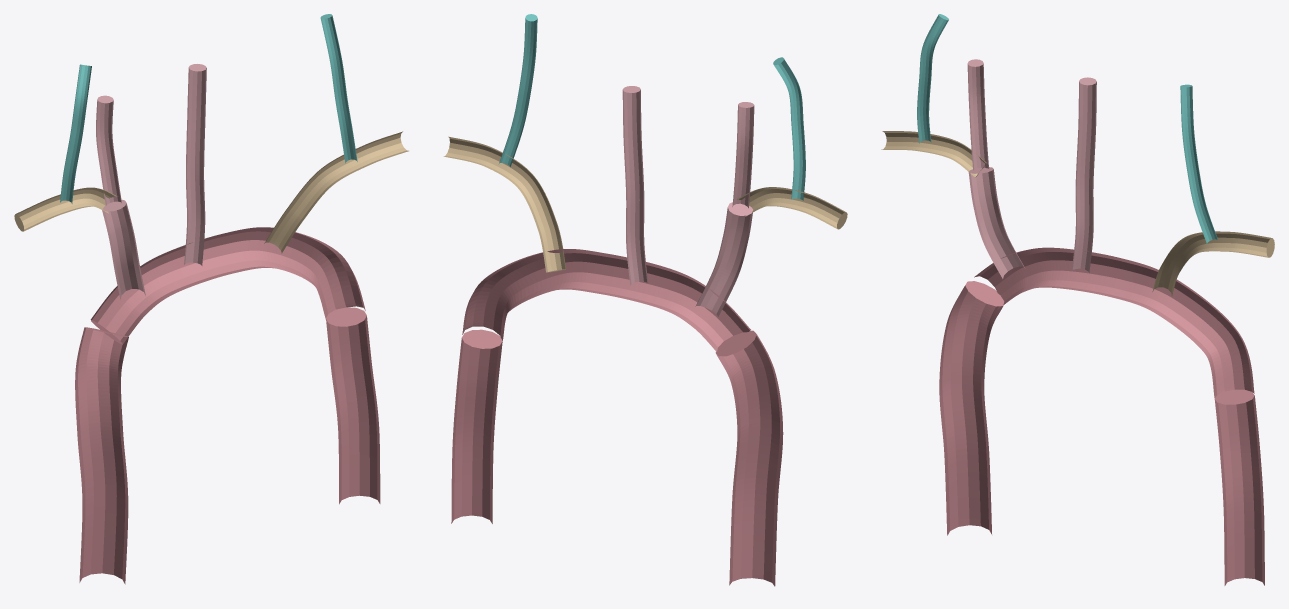
Rendered from arch_normal.glb.
3 views of the same model, side by side, from view 1: azimuth 30°, elevation 25°; view 2: azimuth 150°, elevation 25°; view 3: azimuth 330°, elevation 25° (orthographic). The views are drawn at different scales.
Parts seen in each view (by area): view 1: Aorta ascendente, Arco aórtico, Aorta descendente, Carótida comum esquerda, Subclávia esquerda, Tronco braquiocefálico, Artéria vertebral esquerda, Subclávia direita, Artéria vertebral direita, Carótida comum direita; view 2: Aorta ascendente, Arco aórtico, Aorta descendente, Subclávia esquerda, Carótida comum esquerda, Tronco braquiocefálico, Artéria vertebral esquerda, Subclávia direita, Artéria vertebral direita, Carótida comum direita; view 3: Arco aórtico, Aorta ascendente, Aorta descendente, Carótida comum esquerda, Tronco braquiocefálico, Subclávia esquerda, Artéria vertebral esquerda, Carótida comum direita, Subclávia direita, Artéria vertebral direita.
Boxes of the visible parts, x1,y1,x2,y2 form: Aorta ascendente: (75, 327, 128, 584); Arco aórtico: (90, 227, 365, 344); Aorta descendente: (326, 307, 380, 504); Carótida comum esquerda: (184, 64, 206, 265); Subclávia esquerda: (264, 131, 408, 253); Tronco braquiocefálico: (102, 199, 145, 299); Artéria vertebral esquerda: (320, 14, 357, 163); Subclávia direita: (14, 187, 117, 231); Artéria vertebral direita: (60, 64, 91, 203); Carótida comum direita: (96, 95, 121, 205); Aorta ascendente: (715, 330, 783, 586); Arco aórtico: (462, 249, 750, 356); Aorta descendente: (451, 329, 502, 523); Subclávia esquerda: (443, 136, 566, 272); Carótida comum esquerda: (622, 86, 648, 285); Tronco braquiocefálico: (695, 202, 752, 316); Artéria vertebral esquerda: (499, 14, 537, 166); Subclávia direita: (736, 187, 847, 229); Artéria vertebral direita: (773, 57, 805, 200); Carótida comum direita: (732, 102, 754, 208); Arco aórtico: (974, 247, 1254, 398); Aorta ascendente: (939, 281, 1004, 535); Aorta descendente: (1214, 389, 1264, 585); Carótida comum esquerda: (1071, 77, 1096, 272); Tronco braquiocefálico: (968, 167, 1025, 278); Subclávia esquerda: (1152, 231, 1274, 295); Artéria vertebral esquerda: (1180, 84, 1218, 243); Carótida comum direita: (967, 59, 988, 170); Subclávia direita: (881, 131, 986, 177); Artéria vertebral direita: (917, 14, 948, 143).
Size of the model in its own units: 7.75 by 9.97 by 1.41.
